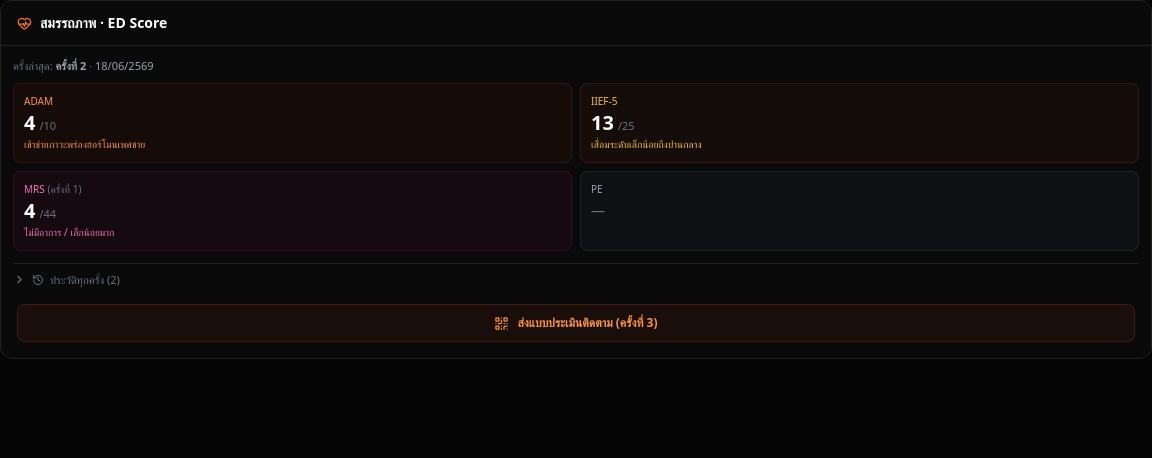
Test case: EDScoreBox round-select — adversarial coverage › C5 cross-round olderTag in the merged DEFAULT view + round-trip via the PAST round restores it
Expected: the text "(ครั้งที่ 1)" is shown, [45,182,81,196]
Click the button with test id "ed-history-toggle".
click(80, 279)  # box [13,262,1139,288]
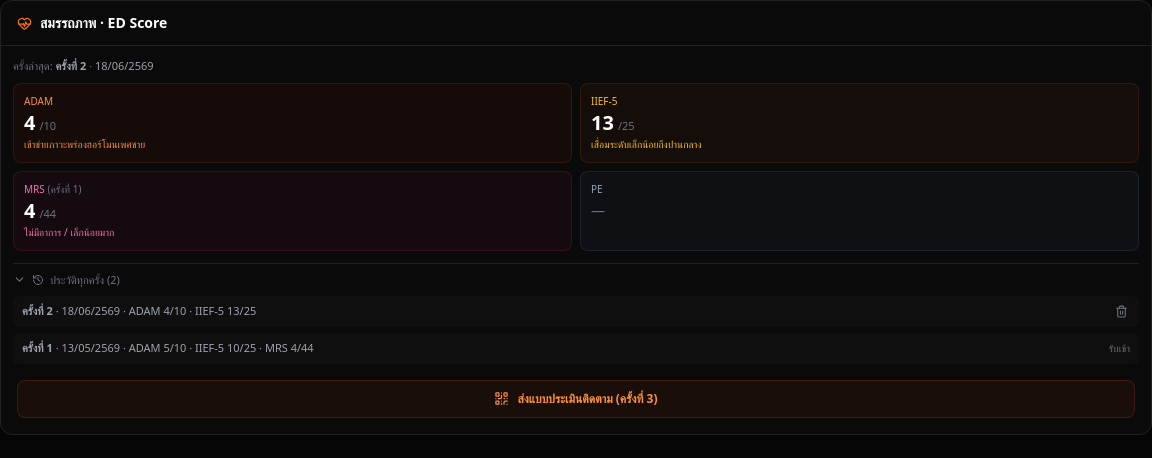
Click the button with test id "ed-history-__intake__".
click(91, 348)  # box [13,333,1139,364]
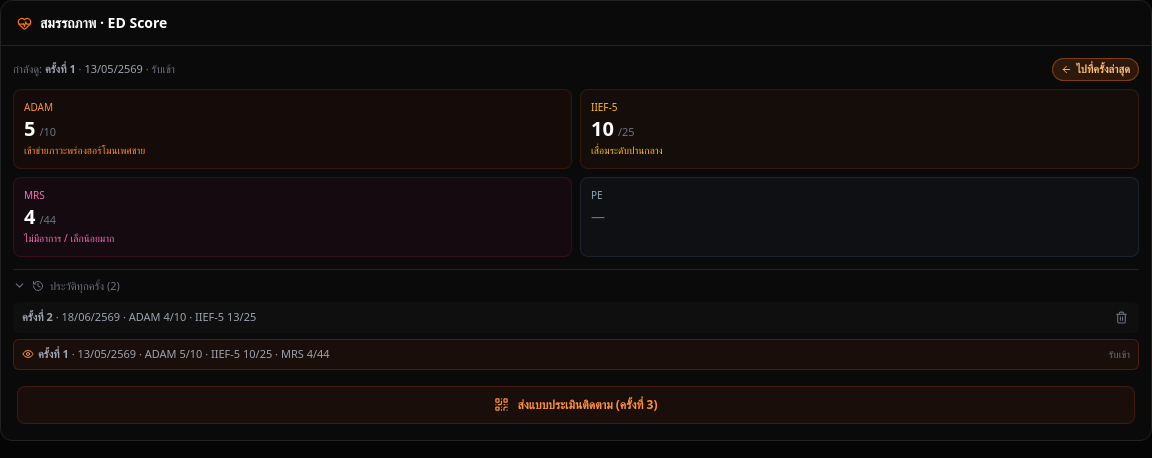
# back to default → olderTag reappears (merged view restored exactly)
Click the button with test id "ed-back-to-latest".
click(1096, 69)  # box [1052,58,1139,80]
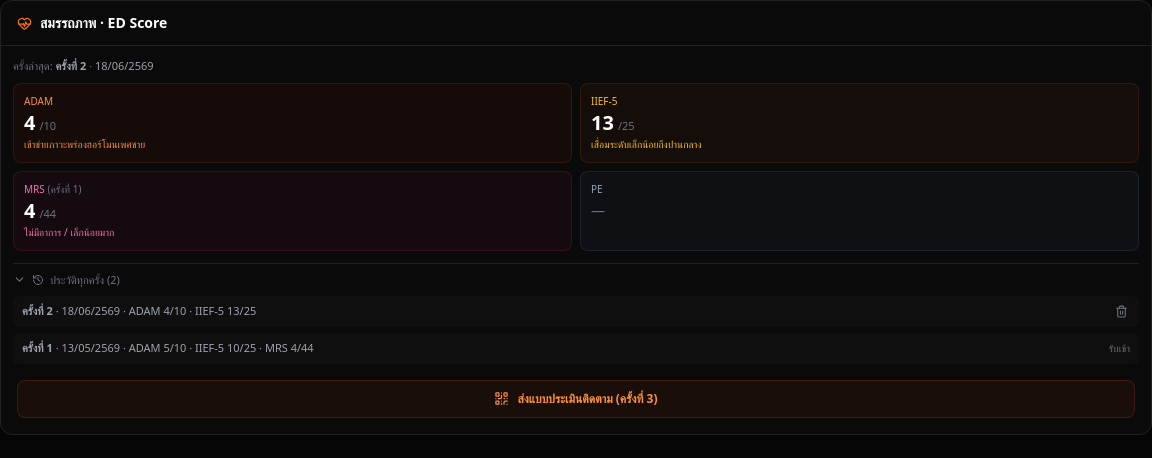
Expected: the text "(ครั้งที่ 1)" is shown, [45,182,81,196]
